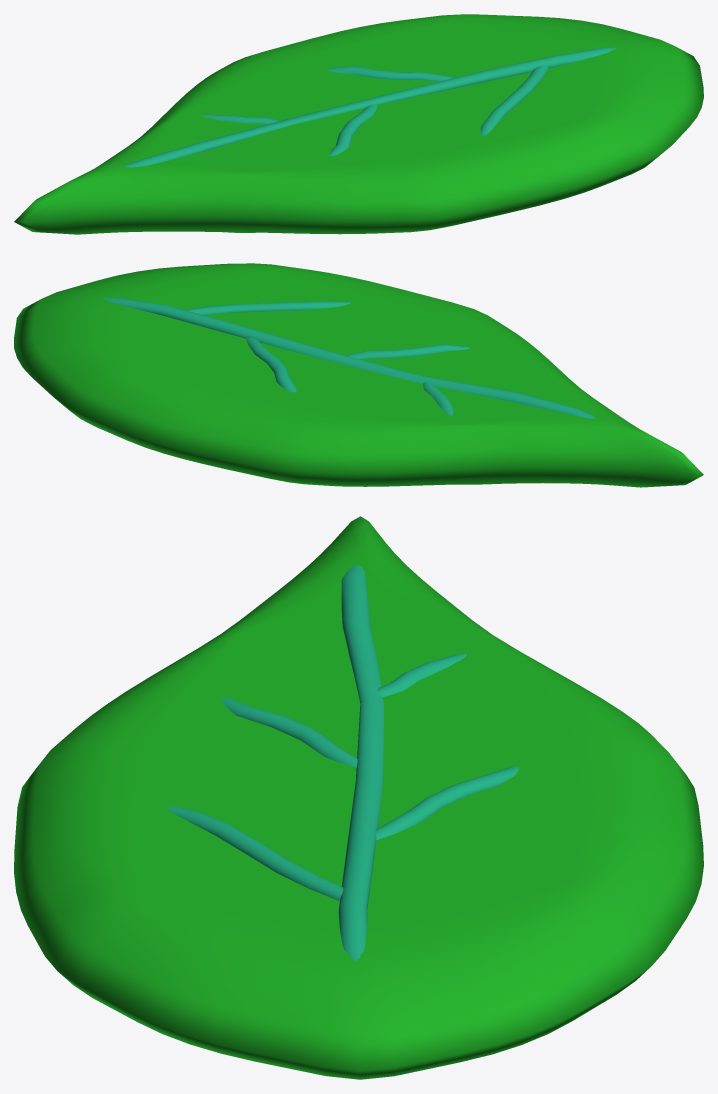
File: vineLeaf.fbx
The picture shows the model from 3 angles, top to bottom: view 1: azimuth 30°, elevation 25°; view 2: azimuth 150°, elevation 25°; view 3: azimuth 270°, elevation 25°; orthographic projection. The views are drawn at different scales.
Visible parts, largest first — view 1: pCylinder8; view 2: pCylinder8; view 3: pCylinder8.
Part boxes in pixels (x1,y1,x2,y2): pCylinder8: [14, 14, 703, 234]; pCylinder8: [14, 263, 703, 487]; pCylinder8: [14, 516, 703, 1079].
Bounding box in the file's own units: 1.08 × 0.0978 × 0.5783.
